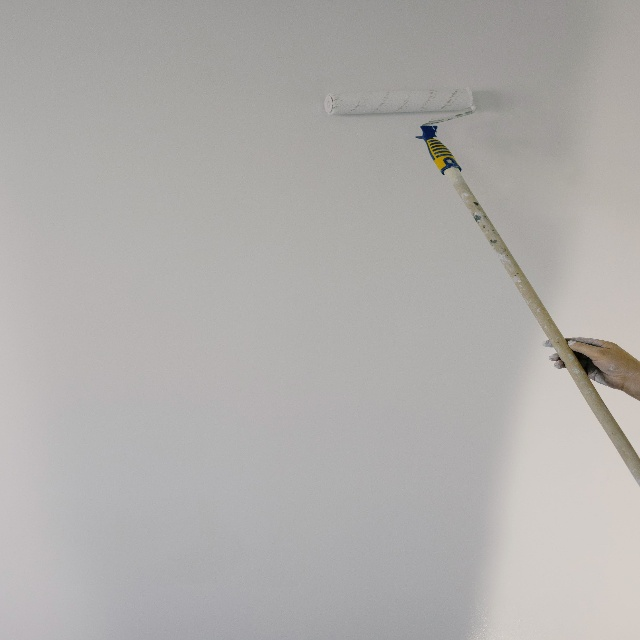Sin_guantes: (541, 325, 640, 400)
